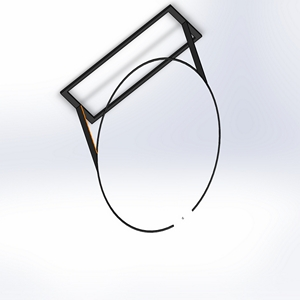circle: (58, 2, 224, 234)
